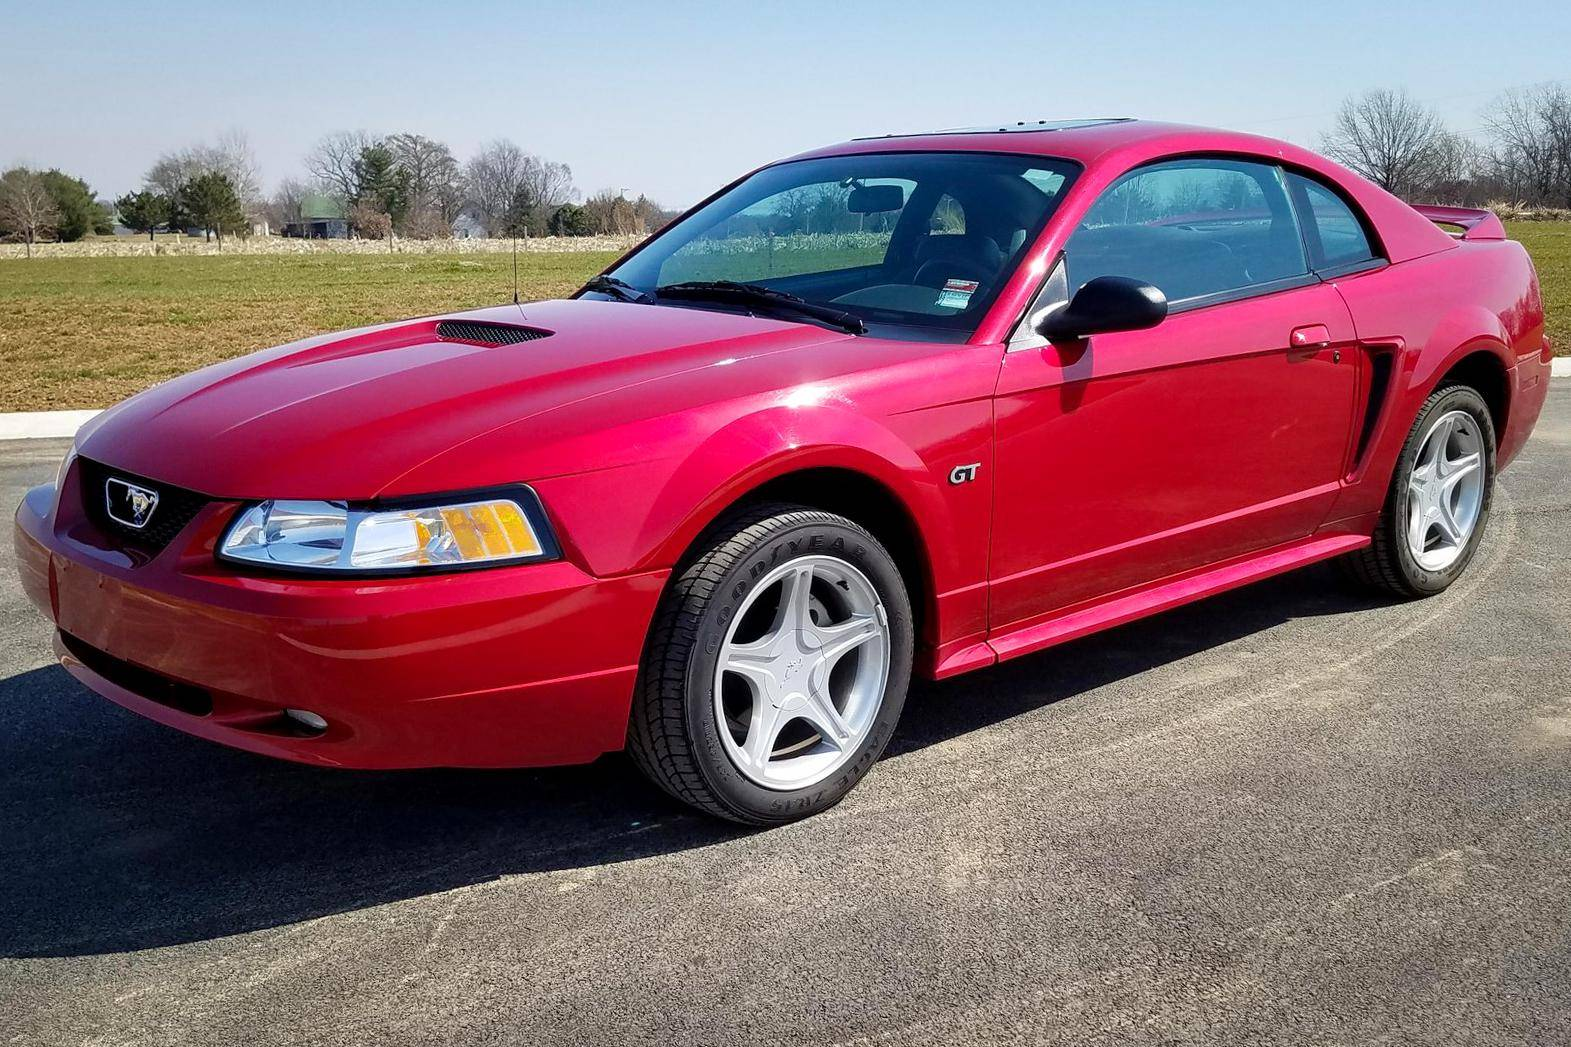car: (11, 105, 1558, 828)
